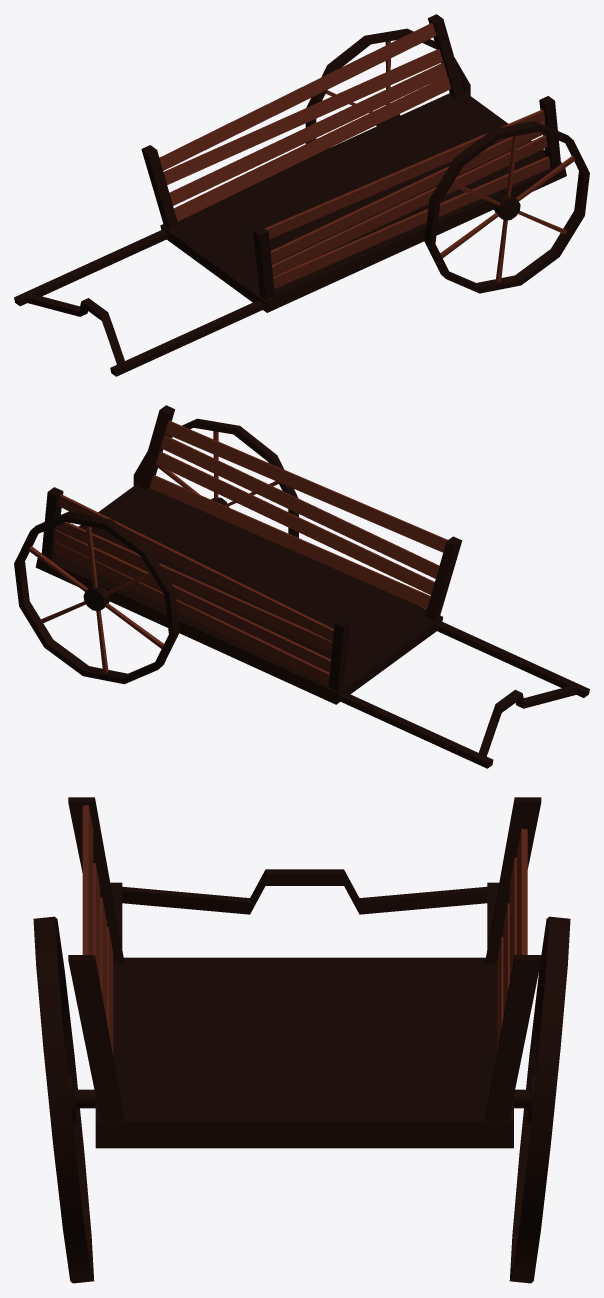
Rendered from Cart.fbx.
The picture shows the model from 3 angles, top to bottom: view 1: azimuth 30°, elevation 25°; view 2: azimuth 150°, elevation 25°; view 3: azimuth 270°, elevation 25°; orthographic projection. The views are drawn at different scales.
Visible parts, largest first — view 1: Mesh; view 2: Mesh; view 3: Mesh.
Part boxes in pixels (x1,y1,x2,y2): Mesh: (14, 14, 589, 376); Mesh: (14, 405, 589, 768); Mesh: (33, 797, 570, 1283).
Size of the model in its own units: 570 by 209 by 287.
